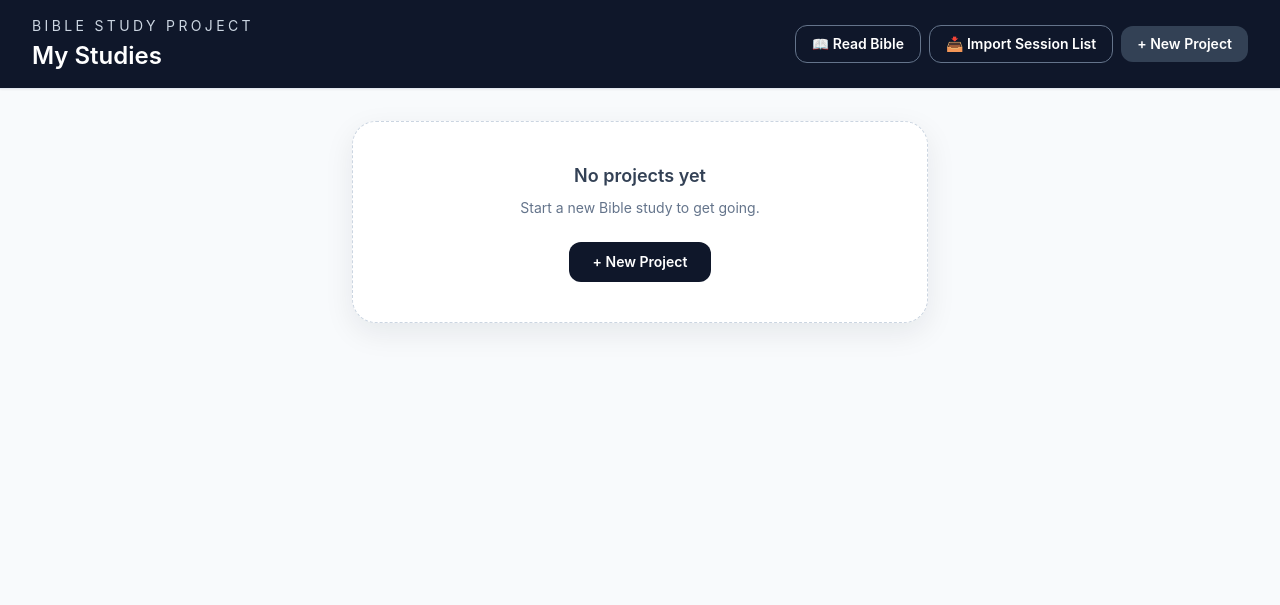
Test case: Initial render › clicking "New Project" shows the project setup form
Step 1. Click the button "+ New Project" in the row of "Bible Study Project" → point(1185, 44), box x1=1121 y1=26 x2=1248 y2=62
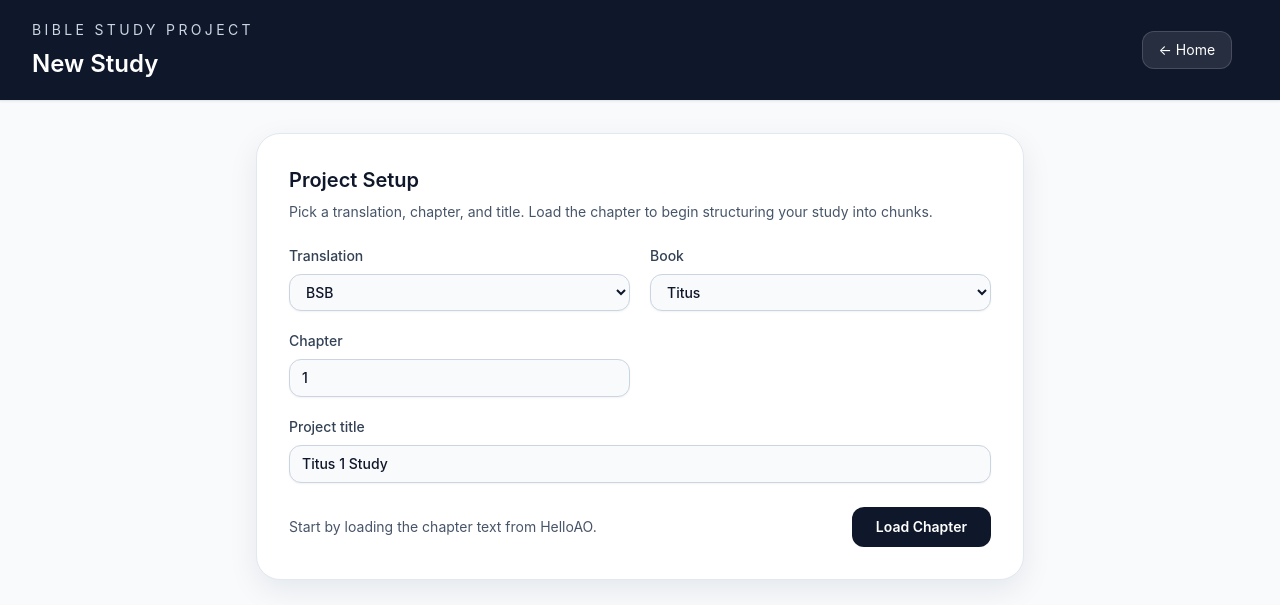
Check: the heading "Project Setup" is shown, box x1=289 y1=168 x2=419 y2=192
Check: the button "Load Chapter" is shown, box x1=852 y1=507 x2=991 y2=547
